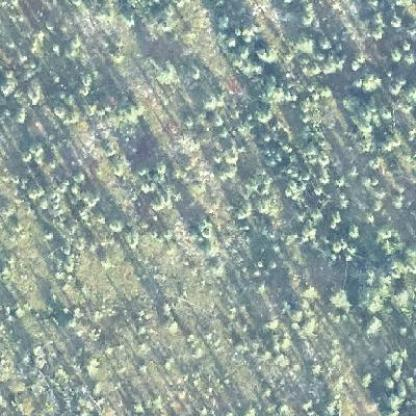tree-top: (322, 284, 352, 310), (155, 57, 176, 83), (362, 313, 386, 335), (25, 79, 45, 104), (105, 213, 124, 235), (149, 192, 165, 214)
